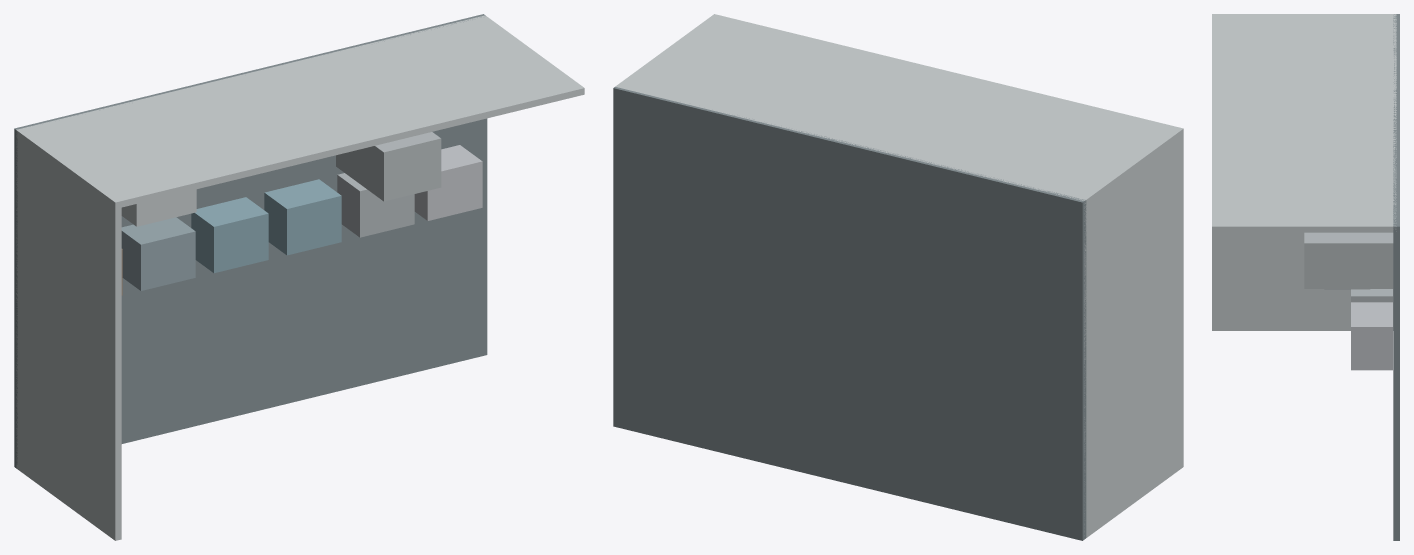
File: cme-room-low.glb
3 renders of one model, left to right at view 1: azimuth 30°, elevation 25°; view 2: azimuth 150°, elevation 25°; view 3: azimuth 270°, elevation 25°, orthographic. The views are drawn at different scales.
Parts seen in each view (by area): view 1: floor, wall_back, wall_left, autoclave, packing, inspection, cleaning, sterile_storage, sterilizer, cleaning_sink; view 2: floor, wall_back, wall_left; view 3: wall_back, wall_left, autoclave, floor, sterile_storage, sterilizer.
Boxes of the visible parts, x1,y1,x2,y2 form: floor: (14,14,487,468); wall_back: (16,15,584,208); wall_left: (16,130,121,540); autoclave: (336,132,441,201); packing: (264,179,341,255); inspection: (191,197,268,273); cleaning: (121,217,195,290); sterile_storage: (414,145,482,220); sterilizer: (337,173,414,237); cleaning_sink: (121,189,196,226); floor: (613,87,1086,540); wall_back: (615,14,1183,206); wall_left: (1084,129,1183,537); wall_back: (1212,14,1396,232); wall_left: (1212,14,1393,330); autoclave: (1304,232,1393,288); floor: (1393,14,1399,540); sterile_storage: (1351,302,1392,370); sterilizer: (1351,289,1392,302).
Size of the model in its own units: 9 by 6.2 by 3.36.
